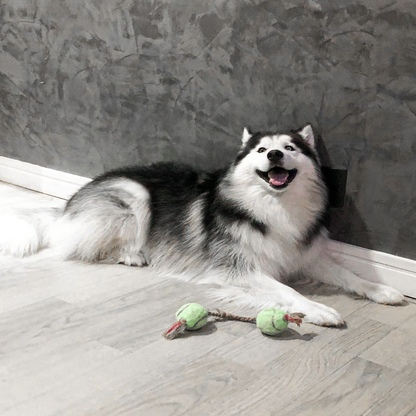husky: (1, 121, 411, 333)
